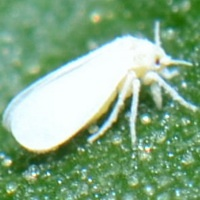insect: (3, 20, 198, 152)
